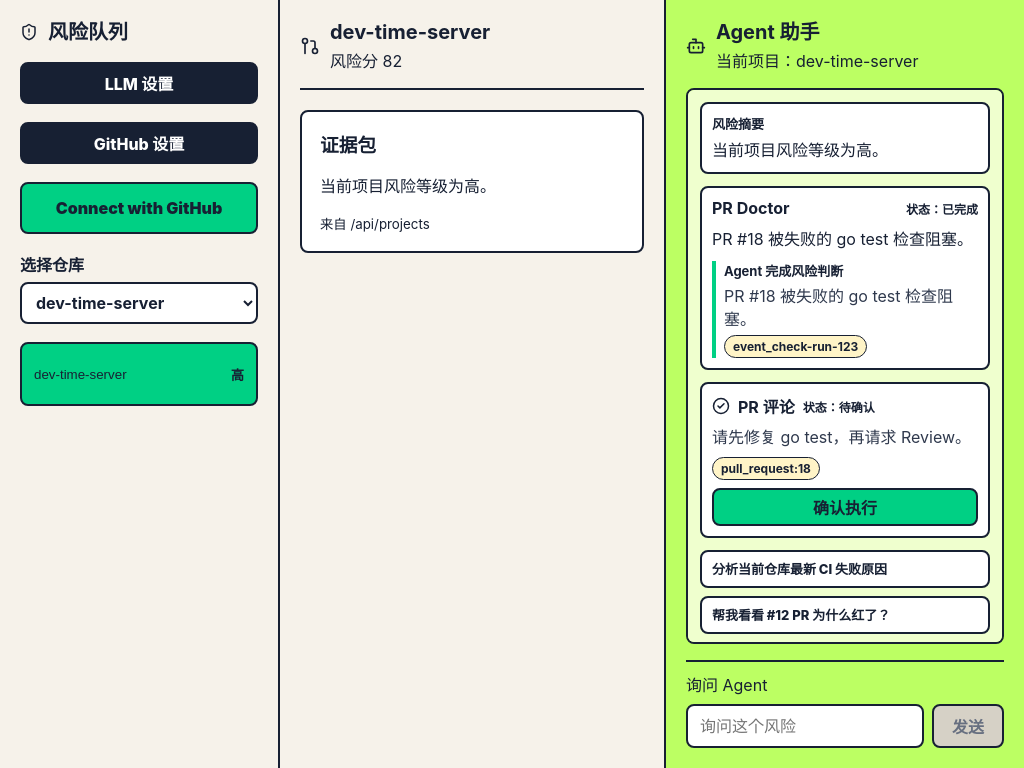
Scenario: Dev Time risk workspace › 展示并确认当前项目行动建议
Expected: the text "请先修复 go test，再请求 Review。" is shown, [712,426,978,449]
Expected: the text "Agent 完成风险判断" is shown, [724,263,843,279]
What coordinates should you click on to do the following:
click the button "确认执行"
I would click on:
 (845, 506)
Its box is [712,488,978,526].
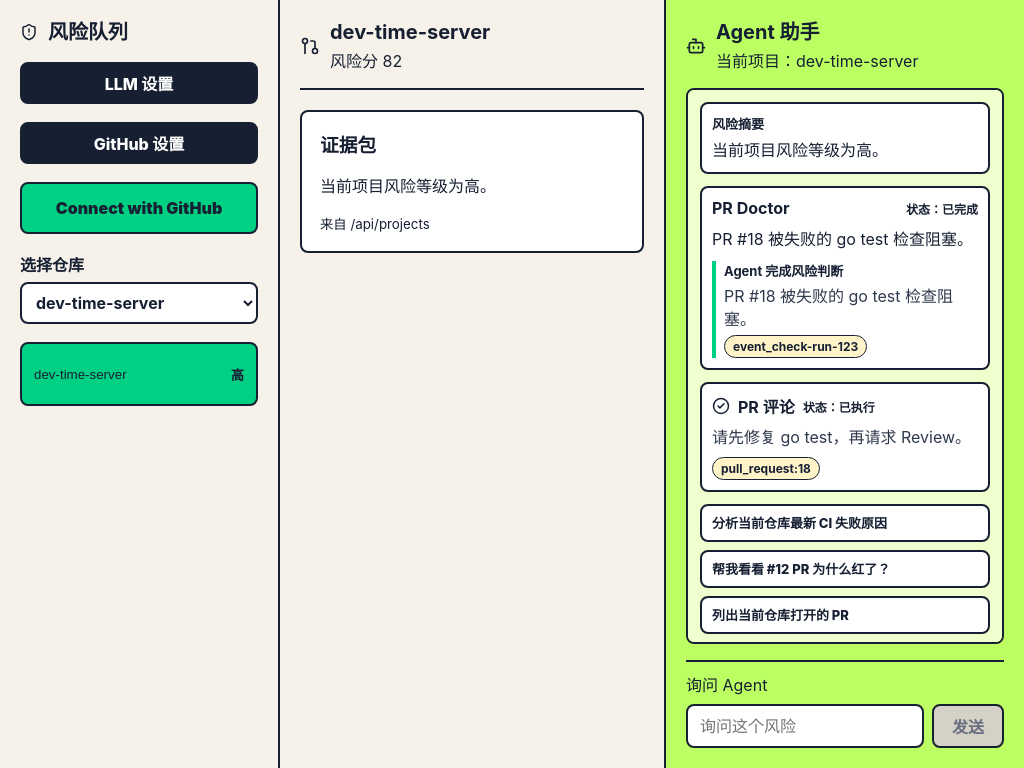
Expected: the text "状态：已执行" is shown, [803,398,875,415]
